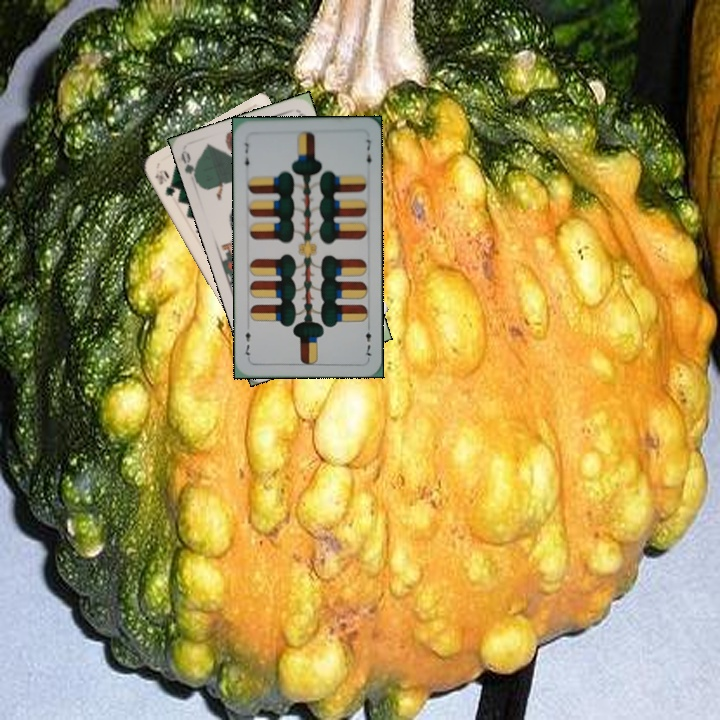E7: (361, 320, 374, 361), (240, 138, 252, 173)
G10: (151, 166, 178, 199)
GO: (177, 148, 202, 187)
